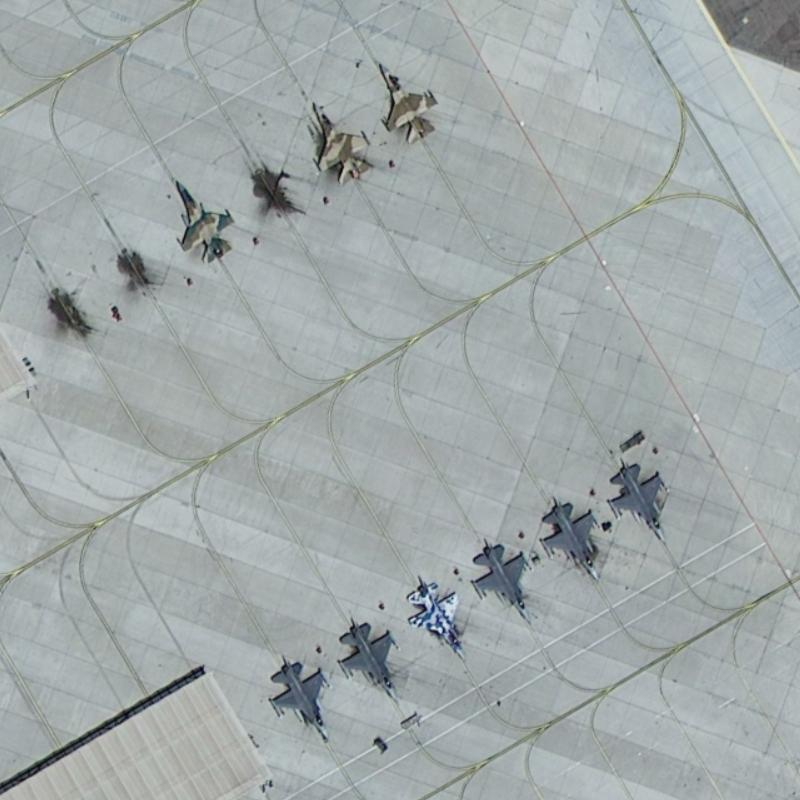A5: (164, 166, 241, 271), (369, 46, 446, 148), (400, 568, 479, 665), (536, 486, 610, 588), (259, 644, 334, 743), (300, 91, 377, 187), (333, 616, 414, 704), (603, 449, 675, 547), (468, 530, 543, 623)
